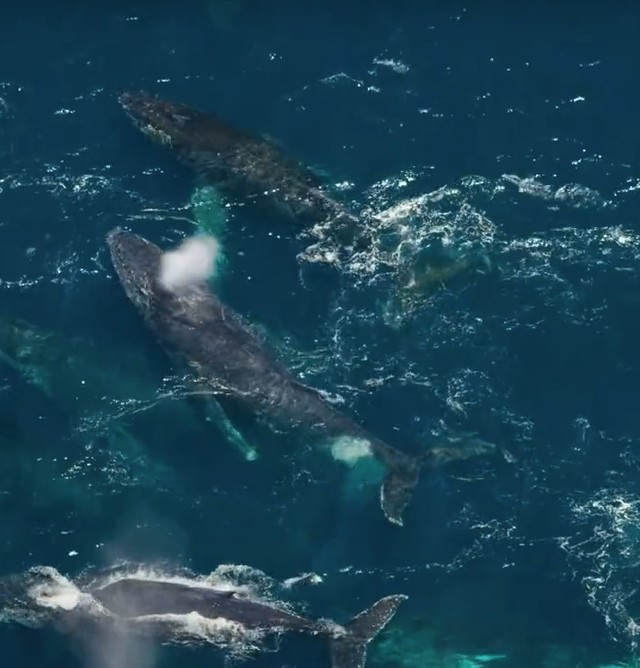whale: (92, 219, 516, 541), (105, 78, 507, 347), (20, 557, 415, 667)
